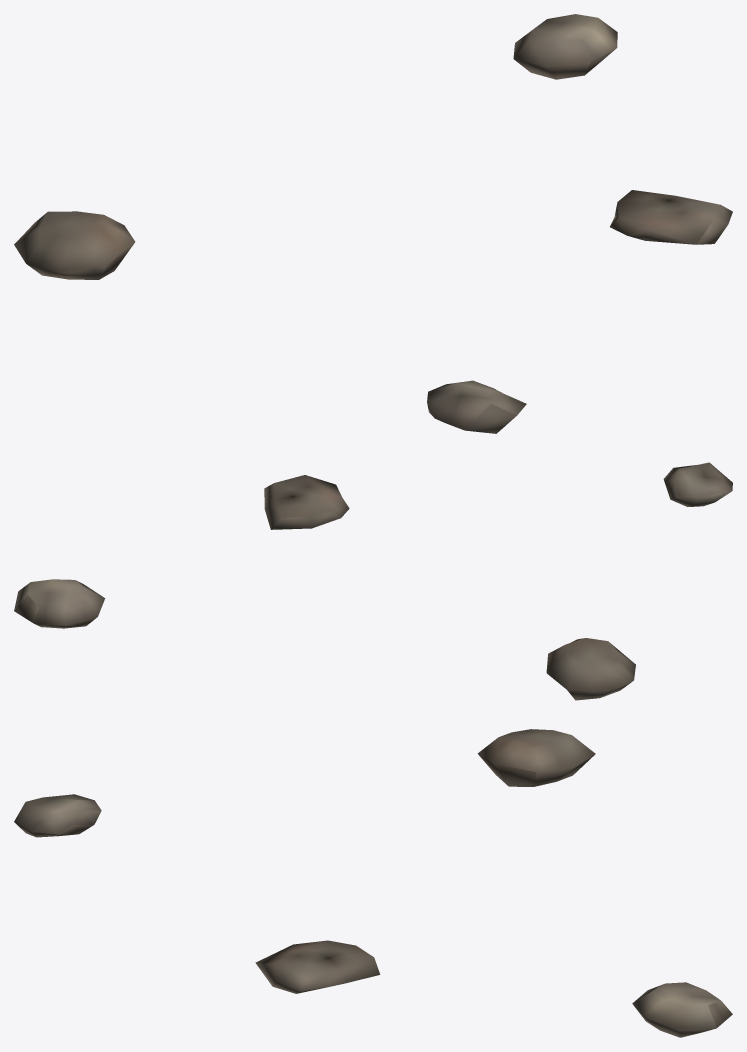
Rendered from pebble_cluster_4_001.fbx.
3 views of the same model, one above another, from view 1: azimuth 30°, elevation 25°; view 2: azimuth 150°, elevation 25°; view 3: azimuth 270°, elevation 25° (orthographic). The views are drawn at different scales.
Visible parts, largest first — view 1: pebble_cluster_4.001; view 2: pebble_cluster_4.001; view 3: pebble_cluster_4.001.
Boxes of the visible parts, x1=… form: pebble_cluster_4.001: x1=14, y1=14, x2=732, y2=433; pebble_cluster_4.001: x1=14, y1=462, x2=732, y2=700; pebble_cluster_4.001: x1=14, y1=729, x2=732, y2=1037.
Size of the model in its own units: 137 by 9.39 by 140.
Materials: 1 (1 with a texture image).
